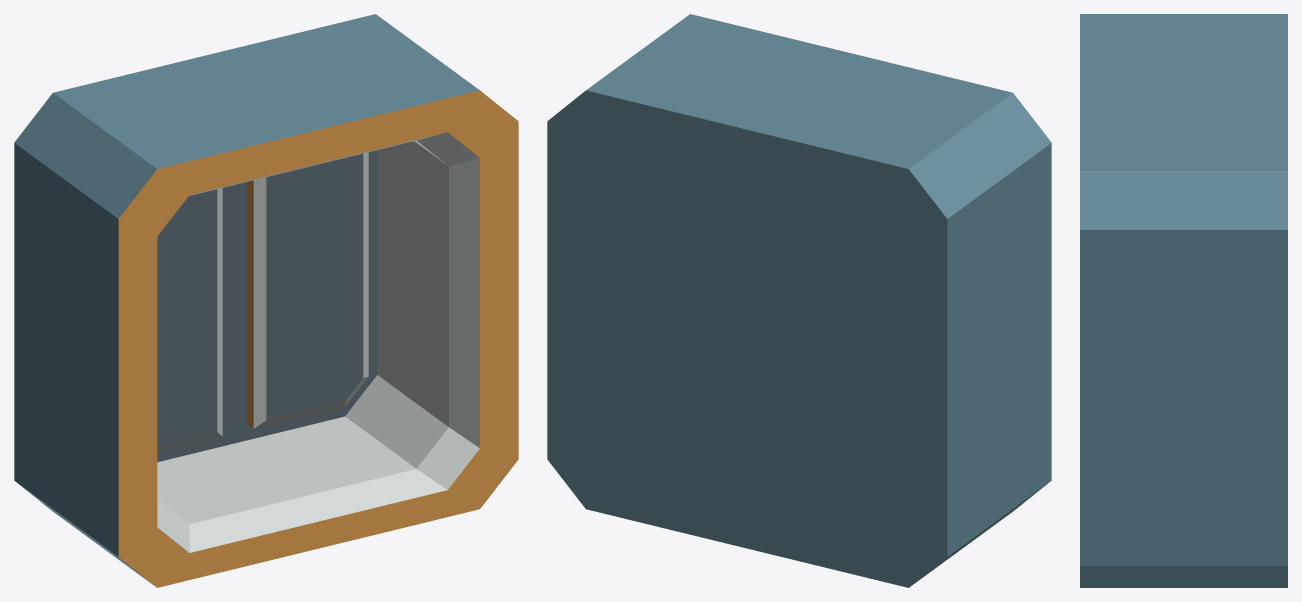
The picture shows the model from 3 angles, left to right: view 1: azimuth 30°, elevation 25°; view 2: azimuth 150°, elevation 25°; view 3: azimuth 270°, elevation 25°; orthographic projection.
Parts seen in each view (by area): view 1: DeepRecessIntegralSplitPanelBulkhead; view 2: DeepRecessIntegralSplitPanelBulkhead; view 3: DeepRecessIntegralSplitPanelBulkhead.
Part boxes in pixels (bbox=[...]): DeepRecessIntegralSplitPanelBulkhead: bbox=[14, 14, 518, 587]; DeepRecessIntegralSplitPanelBulkhead: bbox=[547, 14, 1051, 587]; DeepRecessIntegralSplitPanelBulkhead: bbox=[1080, 14, 1287, 587].
Bounding box in the file's own units: 3.1 × 3.1 × 1.4.
